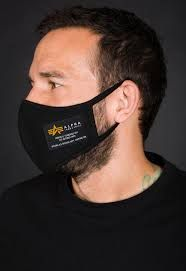with-mask: (11, 17, 157, 182)
